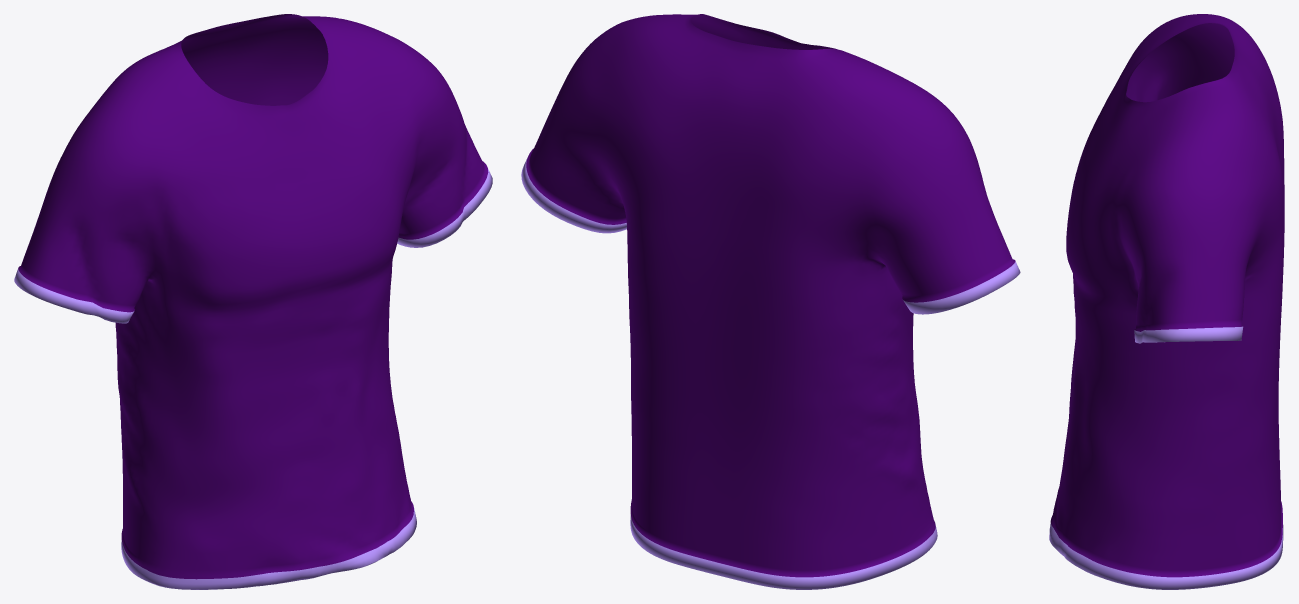
The model's file is Tshirt.glb.
The picture shows the model from 3 angles, left to right: view 1: azimuth 30°, elevation 25°; view 2: azimuth 150°, elevation 25°; view 3: azimuth 270°, elevation 25°; orthographic projection. The views are drawn at different scales.
Parts seen in each view (by area): view 1: T shirt purple.002; view 2: T shirt purple.002; view 3: T shirt purple.002.
Boxes of the visible parts, x1=… form: T shirt purple.002: x1=14, y1=14, x2=492, y2=589; T shirt purple.002: x1=521, y1=14, x2=1020, y2=589; T shirt purple.002: x1=1049, y1=14, x2=1284, y2=589.
Size of the model in its own units: 5.95 by 6.07 by 2.68.
